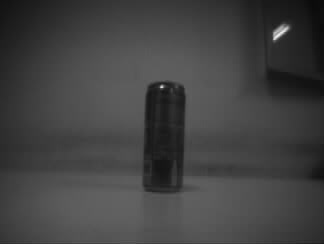Tin can: (142, 81, 186, 194)
